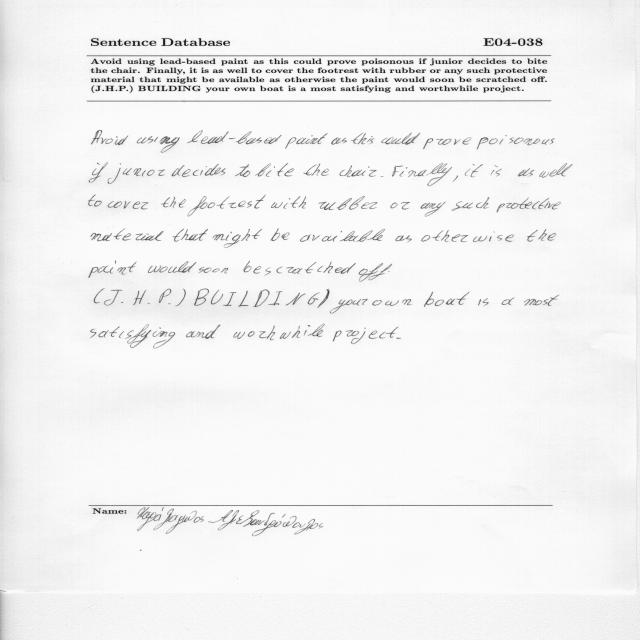word: (194, 289, 330, 308), (91, 325, 175, 349), (187, 195, 266, 216), (233, 324, 325, 340), (392, 163, 452, 186), (187, 131, 281, 145), (264, 262, 356, 276), (108, 163, 165, 184), (104, 289, 171, 306), (333, 327, 399, 344), (421, 230, 514, 242), (300, 229, 385, 242), (477, 135, 554, 149), (496, 198, 561, 213), (213, 229, 263, 248), (91, 229, 164, 241), (319, 196, 378, 210), (89, 261, 137, 278), (137, 136, 180, 153), (172, 164, 226, 177), (285, 133, 328, 149), (424, 292, 469, 307), (359, 263, 393, 282), (148, 261, 197, 273), (423, 137, 471, 149), (330, 299, 368, 314), (92, 130, 129, 145), (255, 163, 294, 177), (186, 324, 221, 339), (452, 197, 489, 211), (539, 163, 573, 178), (382, 132, 421, 145), (271, 196, 306, 209), (173, 229, 208, 242), (340, 165, 377, 177), (89, 162, 108, 183), (524, 295, 560, 306), (420, 202, 446, 217), (527, 229, 556, 242), (303, 163, 329, 176), (108, 201, 148, 209), (372, 299, 412, 306), (161, 197, 186, 208), (351, 133, 374, 144), (465, 164, 483, 177), (243, 261, 261, 274), (271, 229, 290, 241), (235, 164, 250, 177), (175, 289, 186, 306), (198, 267, 228, 273), (94, 289, 105, 304), (88, 195, 102, 206), (518, 168, 534, 177), (390, 202, 410, 209), (395, 235, 412, 243), (491, 165, 502, 177), (331, 138, 347, 145), (502, 297, 515, 305), (478, 298, 489, 306), (453, 175, 458, 182), (396, 338, 401, 339), (381, 176, 383, 177), (388, 271, 390, 272)
